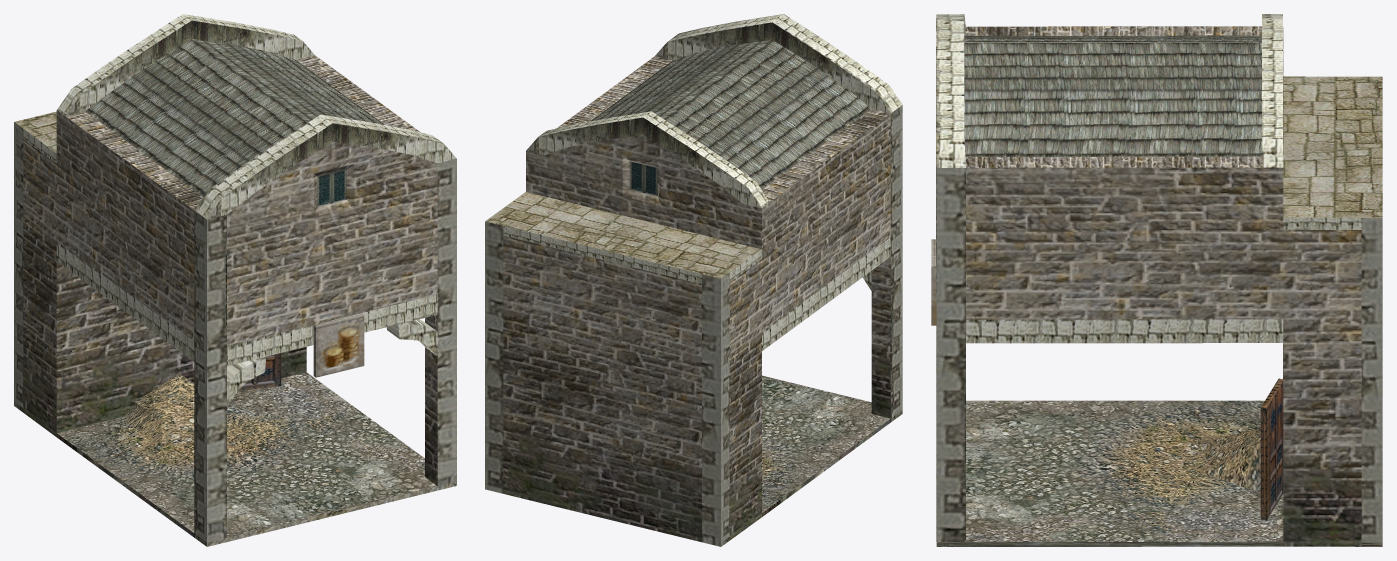
File: building_treasury.glb
The picture shows the model from 3 angles, left to right: view 1: azimuth 30°, elevation 25°; view 2: azimuth 150°, elevation 25°; view 3: azimuth 270°, elevation 25°; orthographic projection. The views are drawn at different scales.
Parts seen in each view (by area): view 1: building_treasury; view 2: building_treasury; view 3: building_treasury.
Part boxes in pixels (box(x1,y1,x2,y2)): building_treasury: box(14, 14, 456, 546); building_treasury: box(485, 14, 902, 546); building_treasury: box(931, 14, 1382, 546).
Size of the model in its own units: 6.16 by 9.23 by 8.3.
7 materials, 7 textured.
